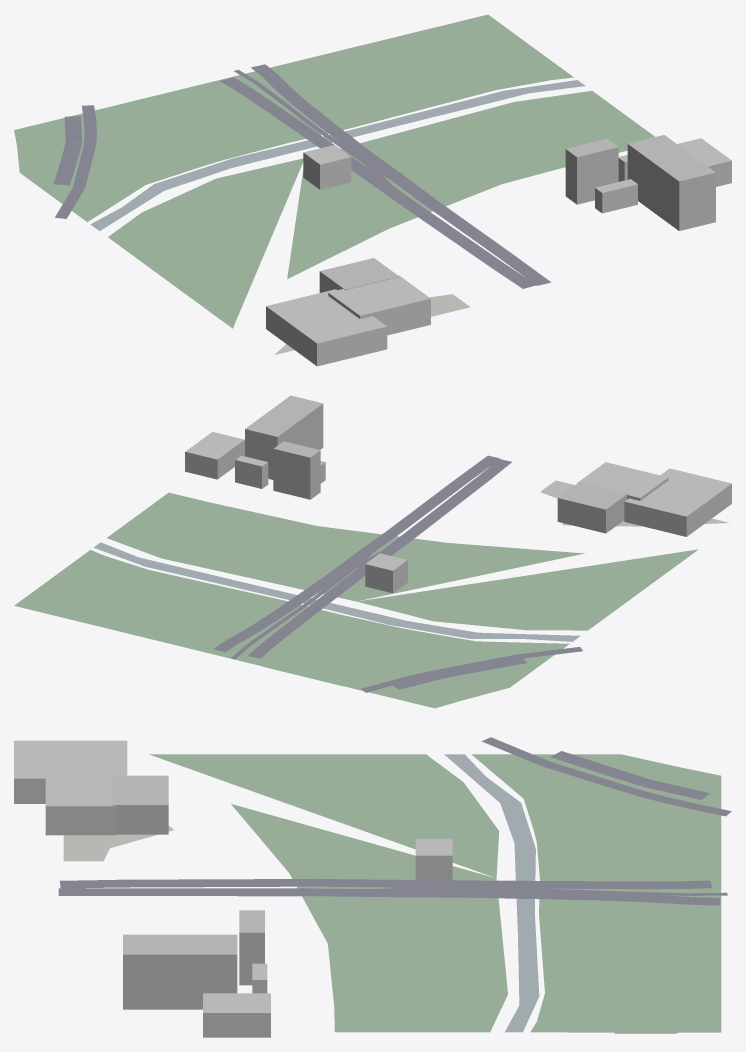
File: 122_112_mid.glb
3 renders of one model, top to bottom at view 1: azimuth 30°, elevation 25°; view 2: azimuth 150°, elevation 25°; view 3: azimuth 270°, elevation 25°, orthographic. The views are drawn at different scales.
Bounding box in the file's own units: 533 × 47.27 × 546.
